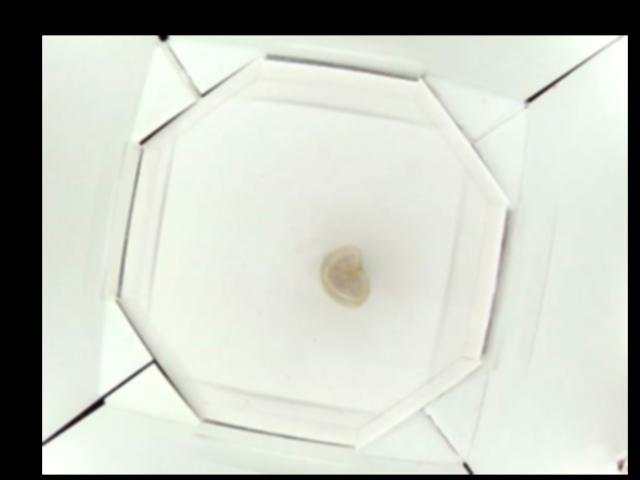Pebble: (322, 245, 367, 304)
